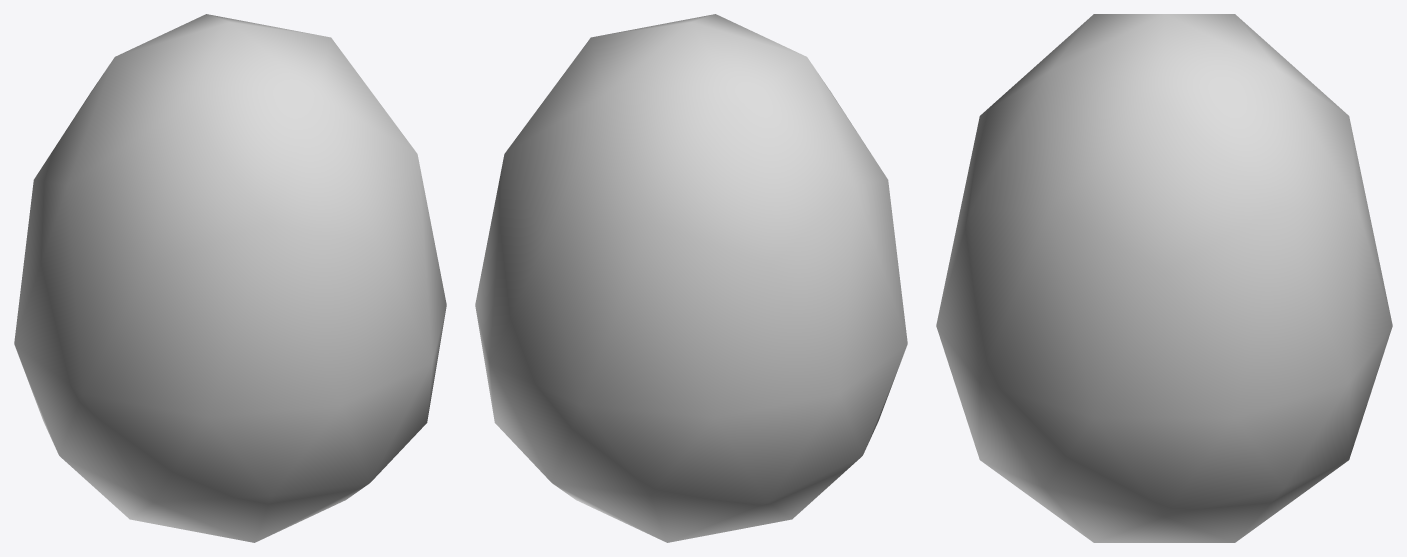
Rendered from Agg.fbx.
The picture shows the model from 3 angles, left to right: view 1: azimuth 30°, elevation 25°; view 2: azimuth 150°, elevation 25°; view 3: azimuth 270°, elevation 25°; orthographic projection. The views are drawn at different scales.
Visible parts, largest first — view 1: Icosphere.001; view 2: Icosphere.001; view 3: Icosphere.001.
Boxes of the visible parts, left/top/right/bottom form: Icosphere.001: left=14, top=14, right=446, bottom=542; Icosphere.001: left=475, top=14, right=907, bottom=542; Icosphere.001: left=936, top=14, right=1392, bottom=542.
Size of the model in its own units: 190 by 251 by 200.
